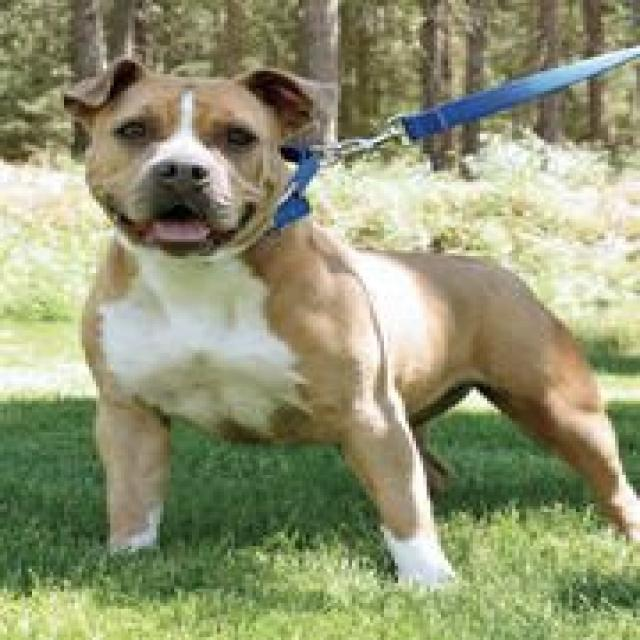staffordshire_bullterrier: (56, 57, 636, 583)
